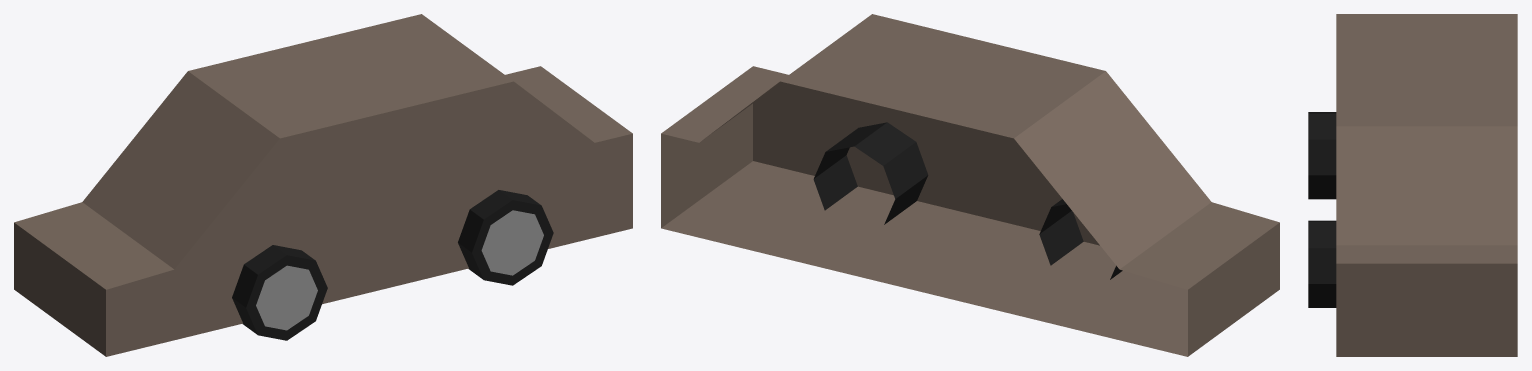
The model's file is Car_Prop.fbx.
3 views of the same model, side by side, from view 1: azimuth 30°, elevation 25°; view 2: azimuth 150°, elevation 25°; view 3: azimuth 270°, elevation 25° (orthographic).
Visible parts, largest first — view 1: CarBase_Mesh1; view 2: CarBase_Mesh1; view 3: CarBase_Mesh1.
Part boxes in pixels (x1,y1,x2,y2): CarBase_Mesh1: (14, 14, 632, 356); CarBase_Mesh1: (661, 14, 1279, 356); CarBase_Mesh1: (1308, 14, 1517, 356).
Bounding box in the file's own units: 64.59 × 22.29 × 22.58.
